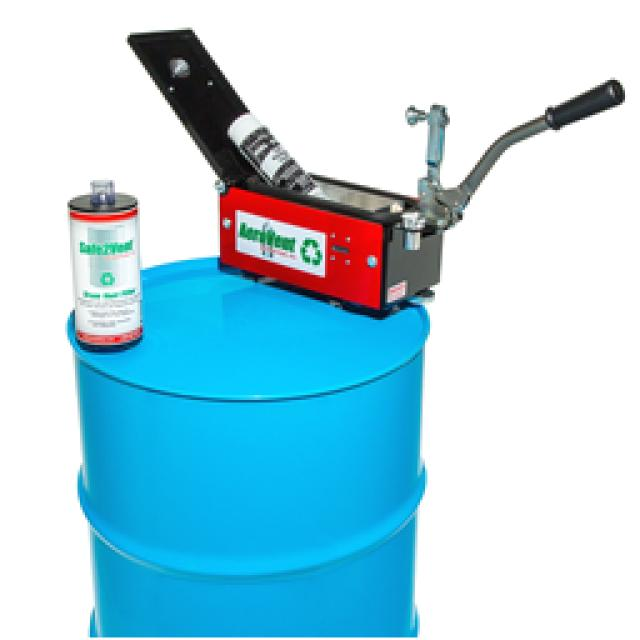B3: (58, 164, 156, 358)
